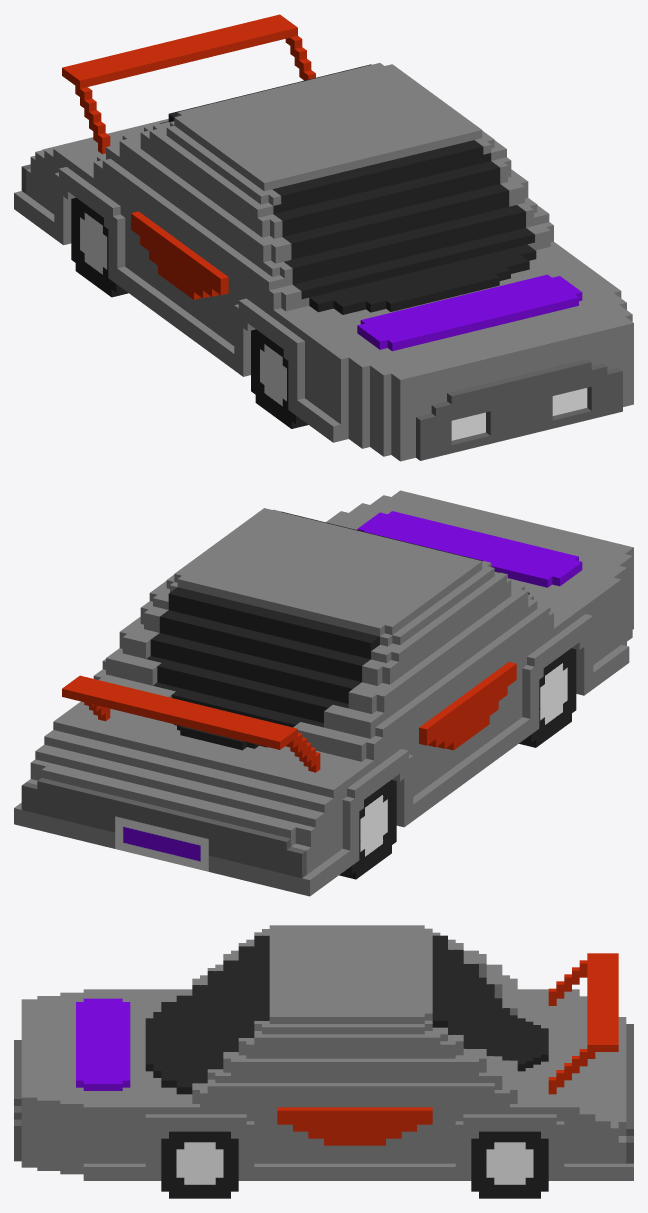
Rendered from Character_3.fbx.
The picture shows the model from 3 angles, top to bottom: view 1: azimuth 30°, elevation 25°; view 2: azimuth 150°, elevation 25°; view 3: azimuth 270°, elevation 25°; orthographic projection. The views are drawn at different scales.
Parts seen in each view (by area): view 1: Character_3; view 2: Character_3; view 3: Character_3.
Part boxes in pixels (<box>): Character_3: <box>14,14,633,461</box>; Character_3: <box>14,490,633,896</box>; Character_3: <box>14,925,633,1198</box>.
Bounding box in the file's own units: 38 × 24 × 80.
